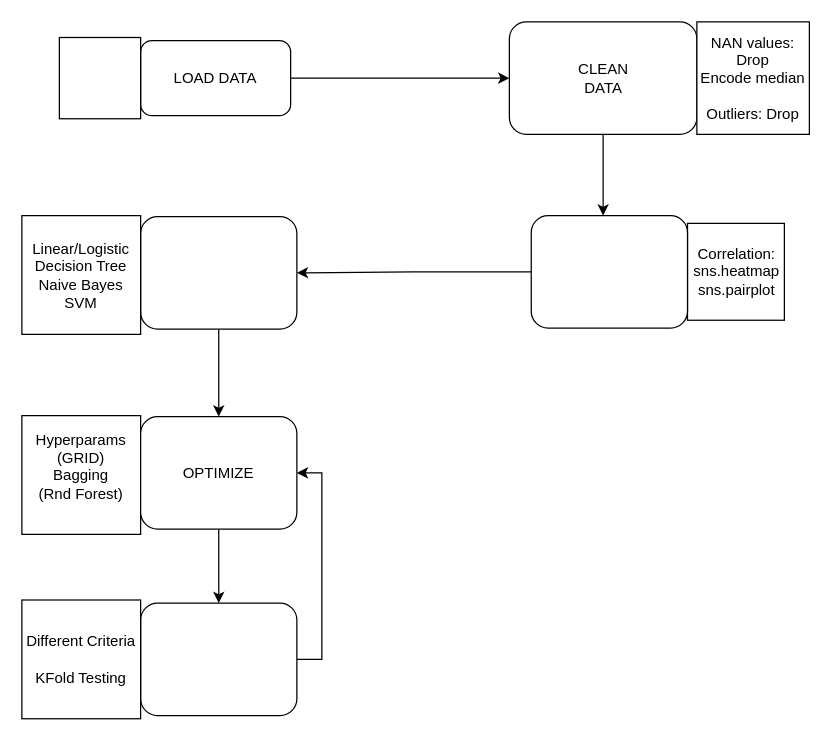
This 831x741 diagram has some shape labels left out. The centre of each missing label's shape, as x and y in pixels:
CHOOSE MODEL: pixel 218 272
Spacings: pixel 99 77
STUDY FEASIBILITY: pixel 609 271
TEST PERFORMANCE: pixel 218 659
